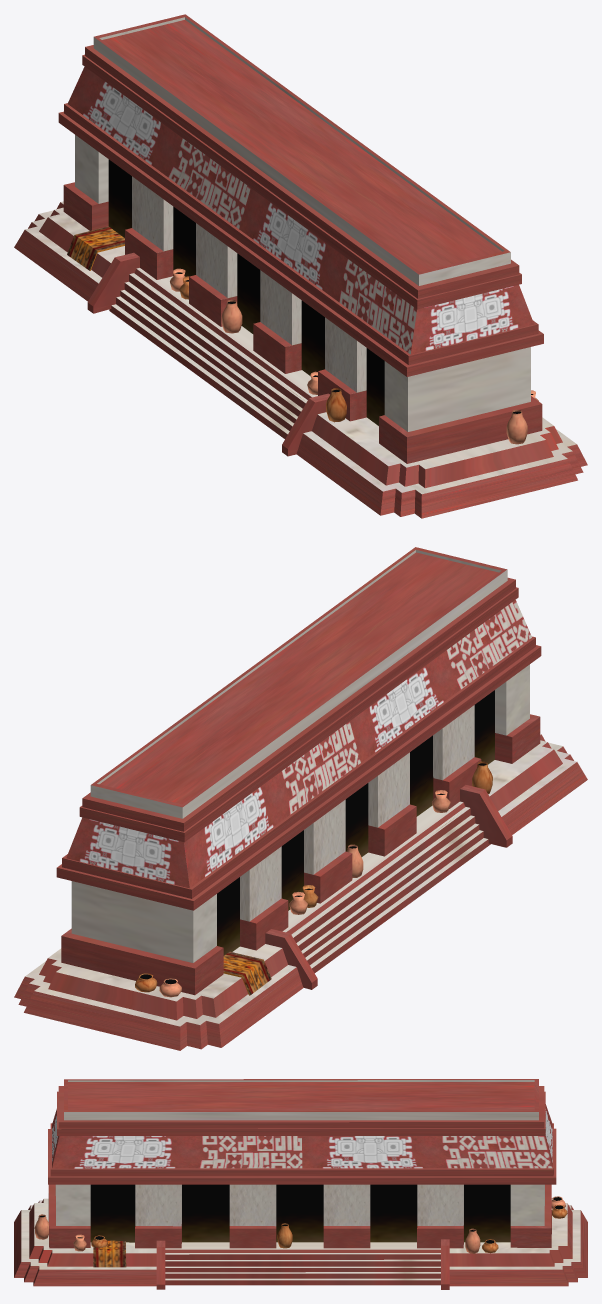
Rendered from edificio_administrativo.dae.
3 renders of one model, top to bottom at view 1: azimuth 30°, elevation 25°; view 2: azimuth 150°, elevation 25°; view 3: azimuth 270°, elevation 25°, orthographic. The views are drawn at different scales.
Parts seen in each view (by area): view 1: edificio_administrativo; view 2: edificio_administrativo; view 3: edificio_administrativo.
Boxes of the visible parts, <box> form: edificio_administrativo: <box>14,14,587,518</box>; edificio_administrativo: <box>14,547,587,1050</box>; edificio_administrativo: <box>14,1079,587,1289</box>.
Bounding box in the file's own units: 10.5 × 31.59 × 9.49.
